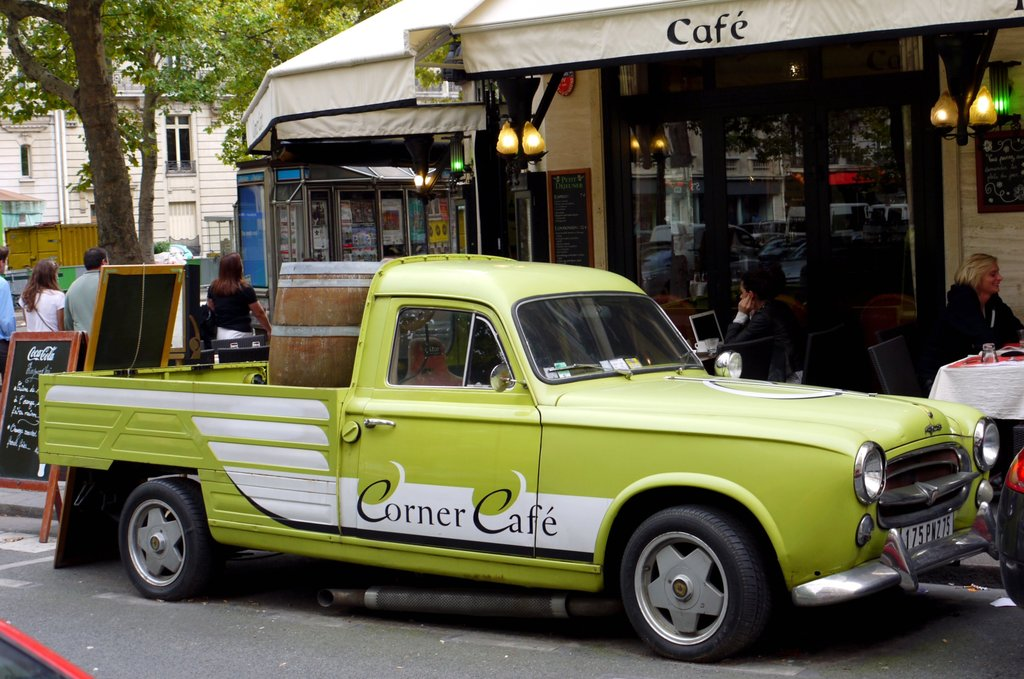Car: (0, 616, 92, 678), (997, 443, 1023, 612), (169, 244, 192, 258)
